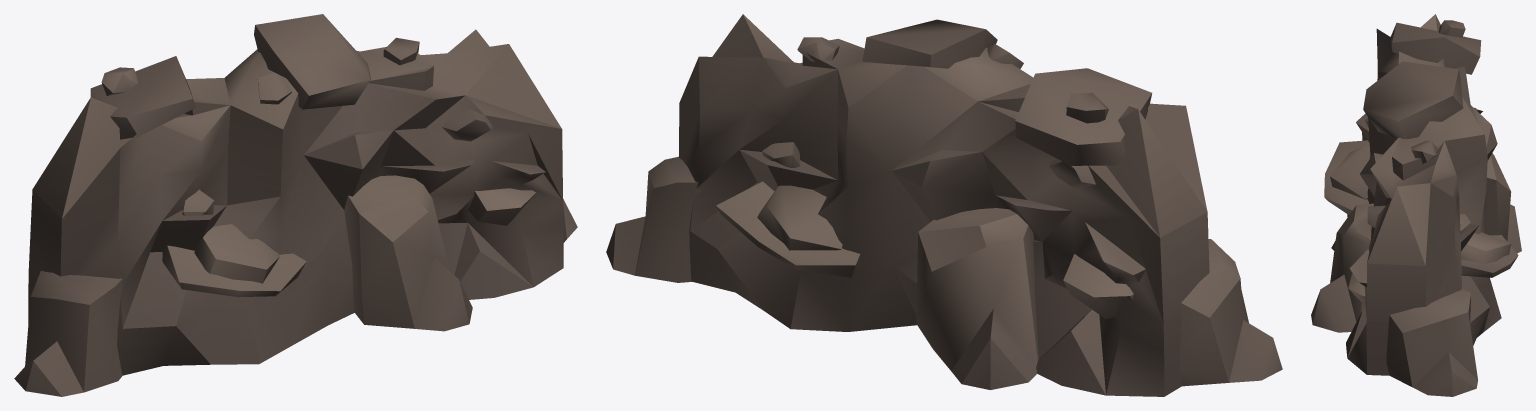
Rendered from rubble_large.gltf.
3 renders of one model, left to right at view 1: azimuth 30°, elevation 25°; view 2: azimuth 150°, elevation 25°; view 3: azimuth 270°, elevation 25°, orthographic. The views are drawn at different scales.
Parts seen in each view (by area): view 1: rubble_large; view 2: rubble_large; view 3: rubble_large.
Boxes of the visible parts, x1,y1,x2,y2 form: rubble_large: (14, 14, 577, 396); rubble_large: (606, 14, 1282, 396); rubble_large: (1311, 14, 1521, 396).
Size of the model in its own units: 8.13 by 3.5 by 3.18.
1 material, 1 textured.
